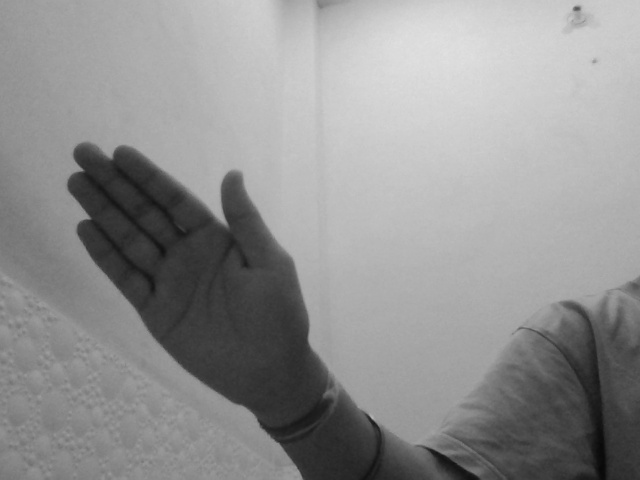Hello: (61, 140, 314, 412)
